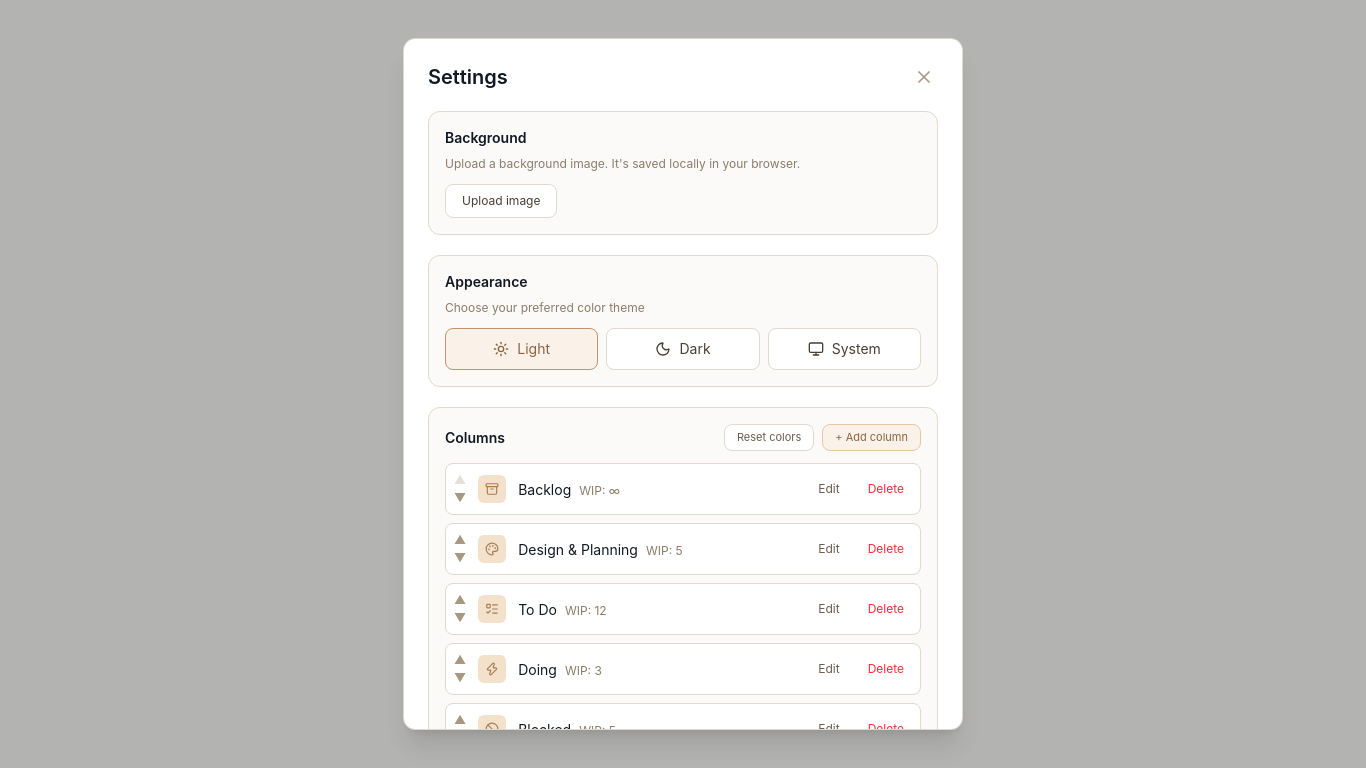
Test case: SettingsPanel › columns management › opens column edit modal when edit is clicked
The image size is (1366, 768).
Click the button "Edit" in the row of "Backlog": coordinates (829, 489) [810,477,848,501]
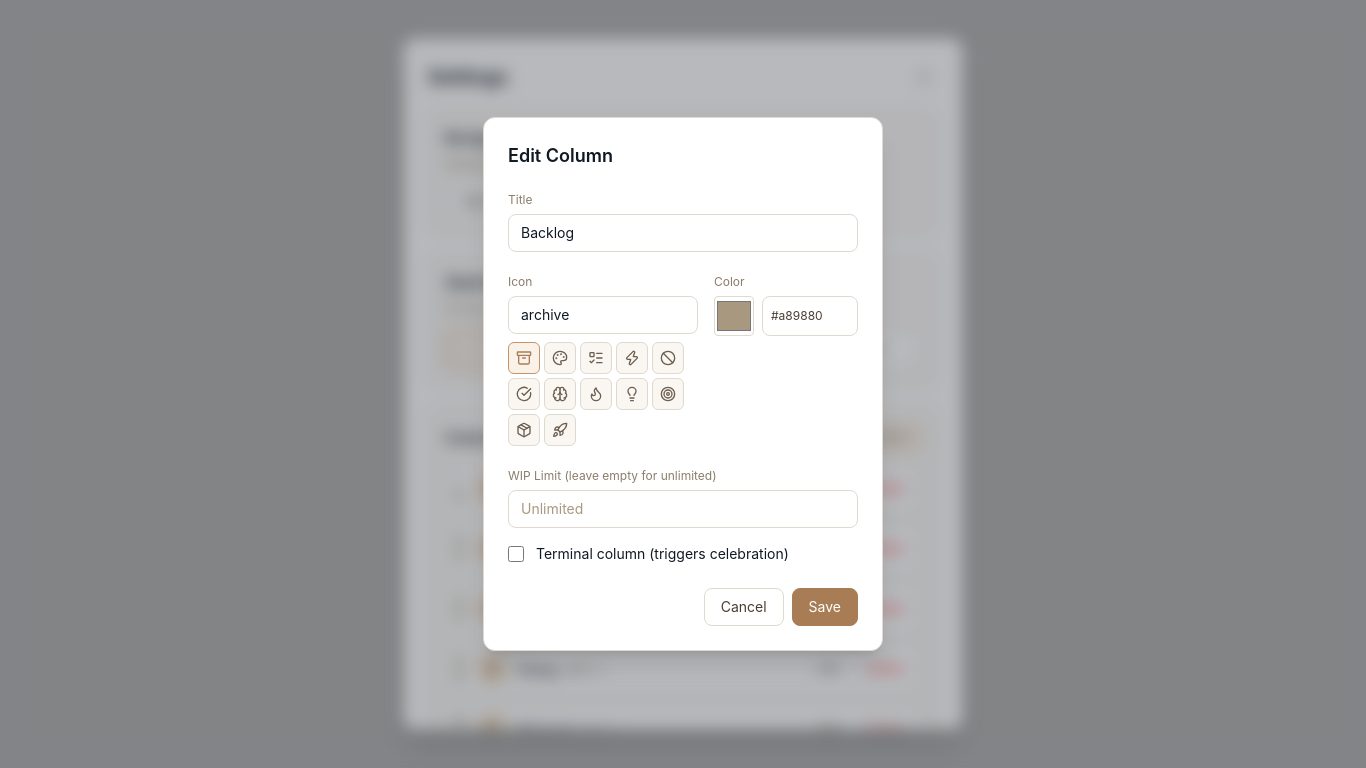
Expected: the text "Edit Column" is shown, [508,145,613,166]
